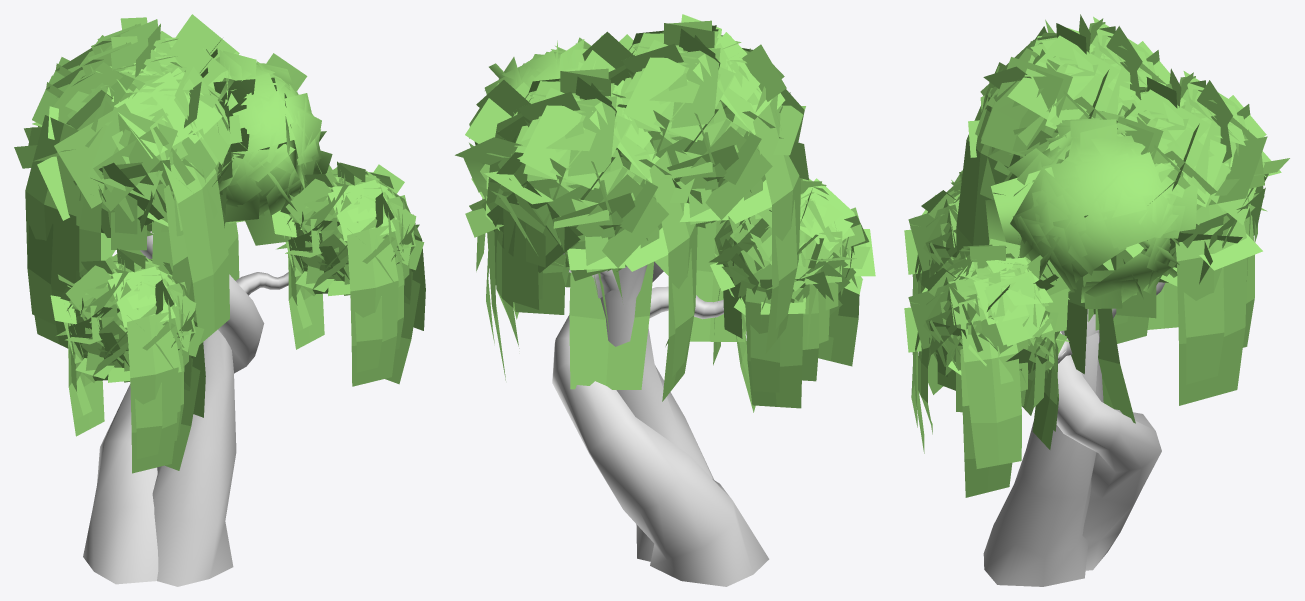
Rendered from prop_Tree.fbx.
3 views of the same model, side by side, from view 1: azimuth 30°, elevation 25°; view 2: azimuth 150°, elevation 25°; view 3: azimuth 270°, elevation 25° (orthographic). The views are drawn at different scales.
Parts seen in each view (by area): view 1: Plane.057, BezierCurve.014, Plane.056, Plane.082, Tree.001, Plane.058; view 2: Plane.058, Plane.057, BezierCurve.014, Plane.082, Tree.001, Plane.056; view 3: Plane.058, Plane.056, Tree.001, BezierCurve.014, Plane.057, Plane.082.
Boxes of the visible parts, box(x1,y1,x2,y2) form: Plane.057: box(14, 33, 244, 348); BezierCurve.014: box(83, 231, 288, 586); Plane.056: box(272, 161, 425, 386); Plane.082: box(50, 248, 205, 473); Tree.001: box(206, 49, 332, 245); Plane.058: box(24, 14, 239, 280); Plane.058: box(455, 62, 705, 401); Plane.057: box(579, 14, 808, 353); BezierCurve.014: box(552, 253, 769, 586); Plane.082: box(709, 178, 875, 412); Tree.001: box(463, 37, 595, 198); Plane.056: box(476, 198, 570, 319); Plane.058: box(1064, 68, 1289, 423); Plane.056: box(904, 238, 1070, 497); Tree.001: box(985, 110, 1197, 308); BezierCurve.014: box(983, 282, 1165, 586); Plane.057: box(956, 14, 1172, 343); Plane.082: box(904, 170, 962, 295).
Size of the model in its own units: 1182 by 1598 by 1055.
